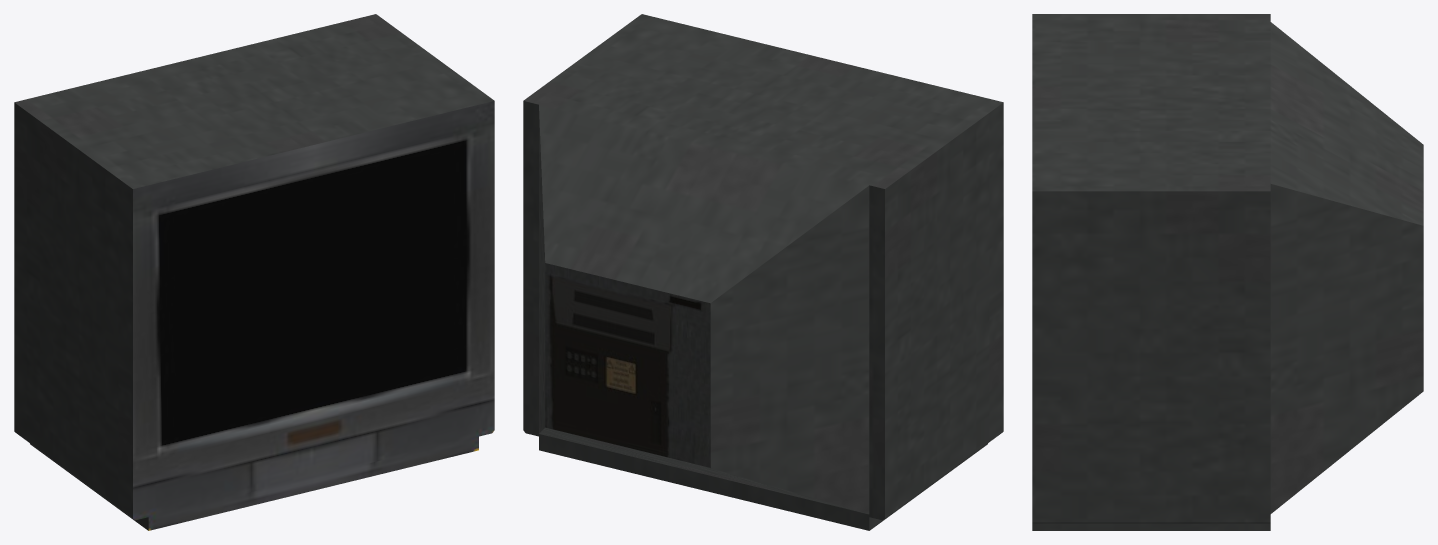
3 renders of one model, left to right at view 1: azimuth 30°, elevation 25°; view 2: azimuth 150°, elevation 25°; view 3: azimuth 270°, elevation 25°, orthographic.
Visible parts, largest first — view 1: TV_2; view 2: TV_2; view 3: TV_2.
Part boxes in pixels (box(x1,y1,x2,y2)): TV_2: box(14, 14, 494, 530); TV_2: box(523, 14, 1003, 530); TV_2: box(1032, 14, 1423, 530).
Size of the model in its own units: 219 by 200 by 204.
Materials: 3 (3 with a texture image).
